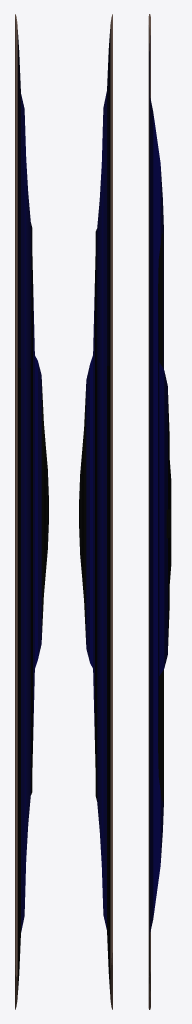
File: blue_flag_222x07.gltf
The picture shows the model from 3 angles, left to right: view 1: azimuth 30°, elevation 25°; view 2: azimuth 210°, elevation 25°; view 3: azimuth 330°, elevation 25°; orthographic projection.
Visible parts, largest first — view 1: blue_flag_222x07; view 2: blue_flag_222x07; view 3: blue_flag_222x07.
Boxes of the visible parts, x1,y1,x2,y2 form: blue_flag_222x07: [15, 14, 48, 1009]; blue_flag_222x07: [79, 14, 112, 1009]; blue_flag_222x07: [148, 14, 171, 1009].
Bounding box in the file's own units: 0.0572 × 1.97 × 0.0298.
1 material, 1 textured.
